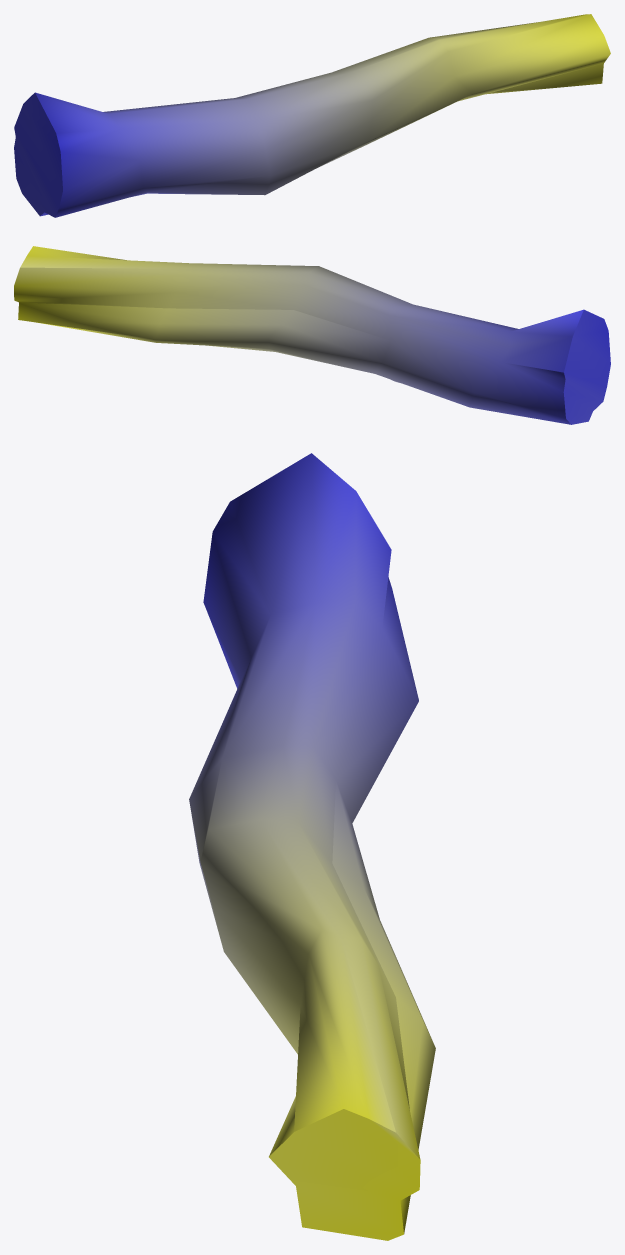
Rendered from BirowLog2.fbx.
The picture shows the model from 3 angles, top to bottom: view 1: azimuth 30°, elevation 25°; view 2: azimuth 150°, elevation 25°; view 3: azimuth 270°, elevation 25°; orthographic projection. The views are drawn at different scales.
Parts seen in each view (by area): view 1: Birow.Log_2_LOD0; view 2: Birow.Log_2_LOD0; view 3: Birow.Log_2_LOD0.
Boxes of the visible parts, bbox=[...] form: Birow.Log_2_LOD0: bbox=[14, 14, 610, 217]; Birow.Log_2_LOD0: bbox=[14, 246, 610, 424]; Birow.Log_2_LOD0: bbox=[189, 453, 435, 1240].
Size of what is drawn, in the model's own units: 212 by 50.03 by 41.7.
